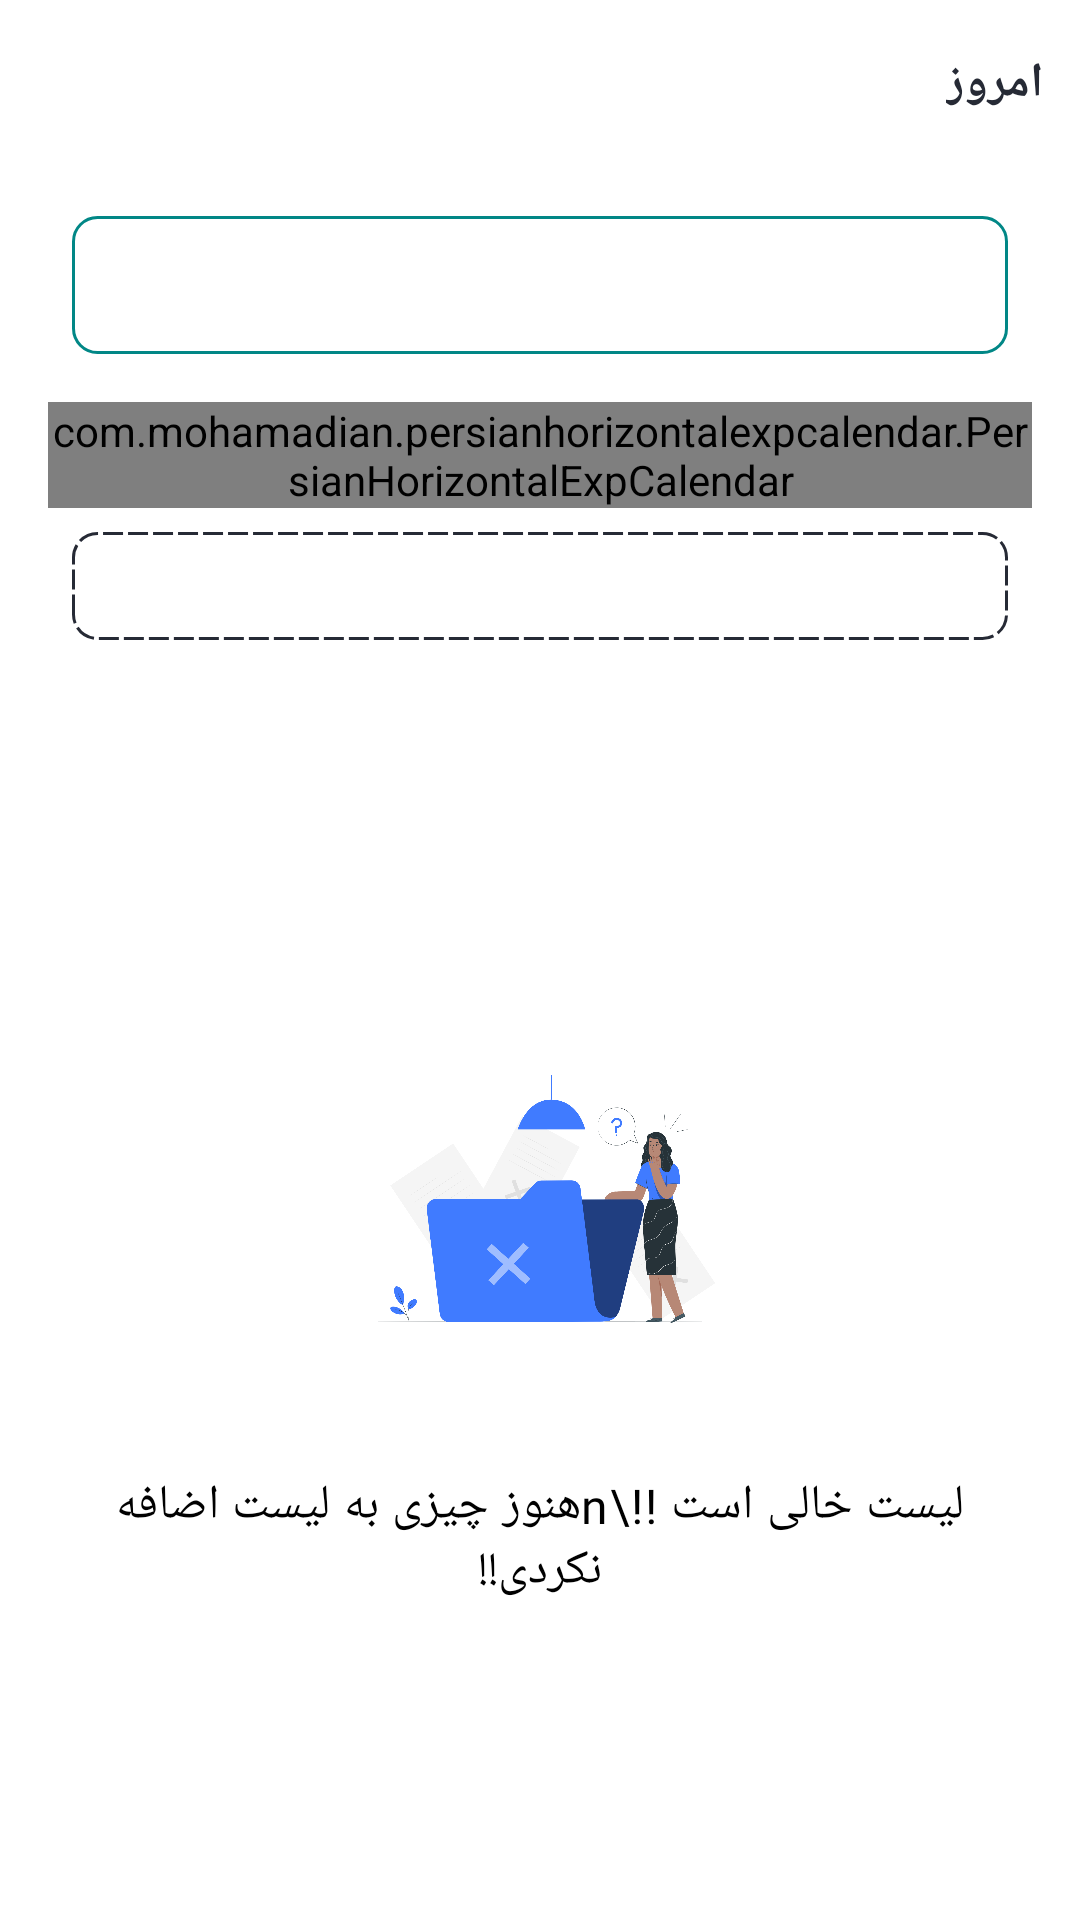

Screen size 1080px×1920px. Icon name, then its center in pixels as point (x, y):
empty state pana: point (540, 1199)
